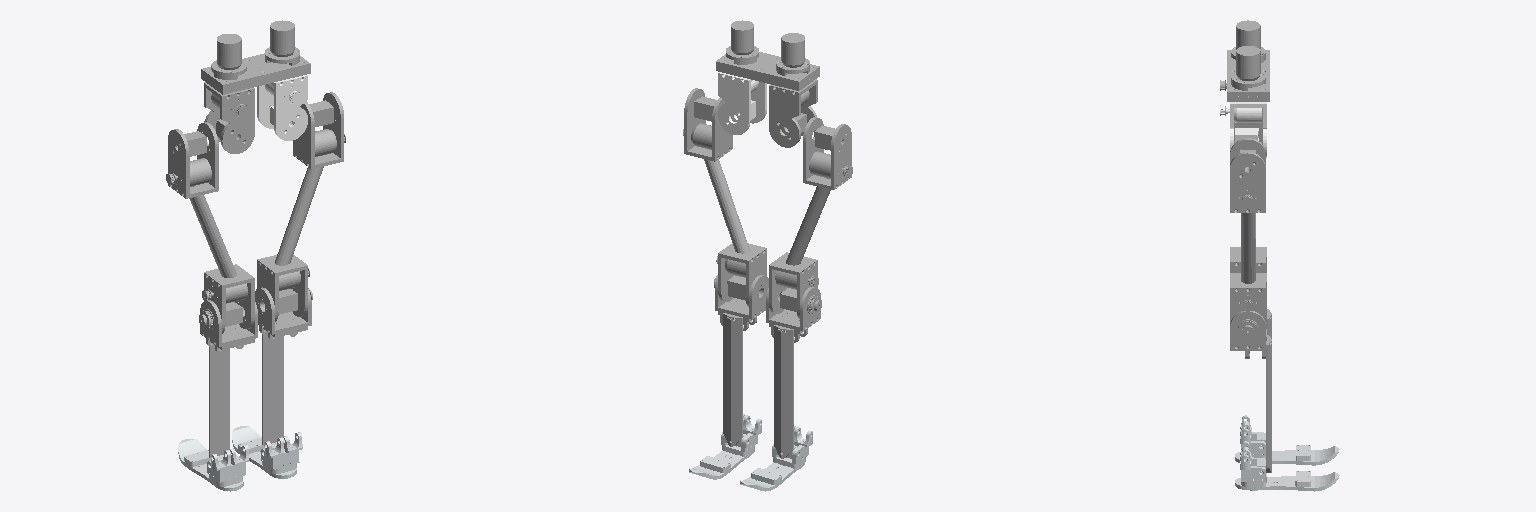
The robot description file, URDF, robot "huron_description_2":
<?xml version="1.0" encoding="utf-8"?>
<!-- This URDF was automatically created by SolidWorks to URDF Exporter! Originally created by [author] ([email redacted]) 
     Commit Version: 1.6.0-4-g7f85cfe  Build Version: 1.6.7995.38578
     For more information, please see http://wiki.ros.org/sw_urdf_exporter -->
<robot
  name="huron_description_2">
  
  <gazebo>
    <self_collide>1</self_collide>
  </gazebo>

  <link name="base_footprint" />
  <link
    name="base_link">
    <inertial>
      <origin
        xyz="4.73188960237181E-09 5.43380156814433E-07 0.0269746723866842"
        rpy="0 0 0" />
      <mass
        value="3.40723570208261" />
      <inertia
        ixx="0.00319004496846458"
        ixy="7.14900268581691E-11"
        ixz="6.0312906921393E-11"
        iyy="0.0105312204112697"
        iyz="6.92595211690858E-09"
        izz="0.0123154567422159" />
    </inertial>
    <visual>
      <origin
        xyz="0 0 0"
        rpy="0 0 0" />
      <geometry>
        <mesh
          filename="package://huron_description_2/meshes/base_link.STL" />
      </geometry>
      <material
        name="">
        <color
          rgba="0.752941176470588 0.752941176470588 0.752941176470588 1" />
      </material>
    </visual>
    <collision>
      <origin
        xyz="0 0 0"
        rpy="0 0 0" />
      <geometry>
        <mesh
          filename="package://huron_description_2/meshes/base_link.STL" />
      </geometry>
    </collision>
  </link>
  <joint name="base_joint" type="fixed">
    <parent link="base_footprint"/>
    <child link="base_link"/>
    <!-- <origin xyz="0.0 0.0 0.0" rpy="0 0 0"/> -->
    <origin xyz="0.0 0.0 1.3" rpy="0 0 0"/>
  </joint>
  <link
    name="left_upper_thigh">
    <inertial>
      <origin
        xyz="0.00063027145118244 0.000538669833131833 0.0816280399810376"
        rpy="0 0 0" />
      <mass
        value="1.6968456216795" />
      <inertia
        ixx="0.00227022630391094"
        ixy="-2.54431260104897E-06"
        ixz="-6.64622684424124E-06"
        iyy="0.00267462162343889"
        iyz="-4.69650413333908E-08"
        izz="0.00123800916526073" />
    </inertial>
    <visual>
      <origin
        xyz="0 0 0"
        rpy="0 0 0" />
      <geometry>
        <mesh
          filename="package://huron_description_2/meshes/left_upper_thigh.STL" />
      </geometry>
      <material
        name="">
        <color
          rgba="0.752941176470588 0.752941176470588 0.752941176470588 1" />
      </material>
    </visual>
    <collision>
      <origin
        xyz="0 0 0"
        rpy="0 0 0" />
      <geometry>
        <mesh
          filename="package://huron_description_2/meshes/left_upper_thigh.STL" />
      </geometry>
    </collision>
  </link>
  <joint
    name="hip_2_left_upper_thigh"
    type="revolute">
    <origin
      xyz="-0.0775 0 0"
      rpy="3.1416 0 0" />
    <parent
      link="base_link" />
    <child
      link="left_upper_thigh" />
    <axis
      xyz="0 0 1" />
    <limit
      lower="-3.14159"
      upper="3.14159"
      effort="0"
      velocity="0" />
  </joint>
  <link
    name="left_middle_thigh">
    <inertial>
      <origin
        xyz="-0.0719622084593496 -0.00611530026086354 -6.83234131536592E-05"
        rpy="0 0 0" />
      <mass
        value="1.18837728003772" />
      <inertia
        ixx="0.000982220615924269"
        ixy="-9.86513152329328E-08"
        ixz="-3.73487671878971E-07"
        iyy="0.000970452993289274"
        iyz="9.79041445139278E-08"
        izz="0.00092365496384701" />
    </inertial>
    <visual>
      <origin
        xyz="0 0 0"
        rpy="0 0 0" />
      <geometry>
        <mesh
          filename="package://huron_description_2/meshes/left_middle_thigh.STL" />
      </geometry>
      <material
        name="">
        <color
          rgba="0.752941176470588 0.752941176470588 0.752941176470588 1" />
      </material>
    </visual>
    <collision>
      <origin
        xyz="0 0 0"
        rpy="0 0 0" />
      <geometry>
        <mesh
          filename="package://huron_description_2/meshes/left_middle_thigh.STL" />
      </geometry>
    </collision>
  </link>
  <joint
    name="left_thigh_roll"
    type="revolute">
    <origin
      xyz="0 0 0.1451242"
      rpy="1.5707963267949 0 0" />
    <parent
      link="left_upper_thigh" />
    <child
      link="left_middle_thigh" />
    <axis
      xyz="-0.00629189312904533 0 -0.999980205844522" />
    <limit
      lower="-3.14159"
      upper="3.14159"
      effort="0"
      velocity="0" />
  </joint>
  <link
    name="left_lower_thigh">
    <inertial>
      <origin
        xyz="-0.266032619495271 -0.000288212950915689 -0.0531507715646498"
        rpy="0 0 0" />
      <mass
        value="4.25435975944067" />
      <inertia
        ixx="0.00345274124785122"
        ixy="1.24869769517437E-05"
        ixz="0.00197963999643362"
        iyy="0.0100324127414557"
        iyz="3.64016409863169E-07"
        izz="0.010090241102447" />
    </inertial>
    <visual>
      <origin
        xyz="0 0 0"
        rpy="0 0 0" />
      <geometry>
        <mesh
          filename="package://huron_description_2/meshes/left_lower_thigh.STL" />
      </geometry>
      <material
        name="">
        <color
          rgba="0.752941176470588 0.752941176470588 0.752941176470588 1" />
      </material>
    </visual>
    <collision>
      <origin
        xyz="0 0 0"
        rpy="0 0 0" />
      <geometry>
        <mesh
          filename="package://huron_description_2/meshes/left_lower_thigh.STL" />
      </geometry>
      <!-- <origin -->
      <!--   xyz="-0.25 0 -0.07" -->
      <!--   rpy="0 1.97 0" /> -->
      <!-- <geometry> -->
      <!--   <cylinder length="0.5" radius="0.05" /> -->
      <!-- </geometry> -->
    </collision>
  </link>
  <joint
    name="left_thigh_pitch"
    type="revolute">
    <origin
      xyz="0 0 0"
      rpy="-1.5707963267949 0 -1.57079632679489" />
    <parent
      link="left_middle_thigh" />
    <child
      link="left_lower_thigh" />
    <axis
      xyz="0 0.0062918931290415 0.999980205844522" />
    <limit
      lower="-3.14159"
      upper="3.14159"
      effort="0"
      velocity="0" />
  </joint>
  <link
    name="left_shin">
    <inertial>
      <origin
        xyz="-0.114650881627948 -0.0200601309451988 0.000818843611288478"
        rpy="0 0 0" />
      <mass
        value="1.60581202983578" />
      <inertia
        ixx="0.00116466025324857"
        ixy="-5.06243347933369E-06"
        ixz="-2.95036730912847E-10"
        iyy="0.00754378536758175"
        iyz="-2.60872069219708E-11"
        izz="0.00773513292013865" />
    </inertial>
    <visual>
      <origin
        xyz="0 0 0"
        rpy="0 0 0" />
      <geometry>
        <mesh
          filename="package://huron_description_2/meshes/left_shin.STL" />
      </geometry>
      <material
        name="">
        <color
          rgba="0.752941176470588 0.752941176470588 0.752941176470588 1" />
      </material>
    </visual>
    <collision>
      <origin
        xyz="0 0 0"
        rpy="0 0 0" />
      <!-- <origin -->
      <!--   xyz="-0.2125 -0.0115 0" -->
      <!--   rpy="0 1.57 0" /> -->
      <geometry>
        <mesh
          filename="package://huron_description_2/meshes/left_shin.STL" />
        <!-- <cylinder length="0.43" radius="0.05" /> -->
      </geometry>
    </collision>
  </link>
  <joint
    name="left_knee"
    type="revolute">
    <origin
      xyz="-0.511278478308803 4.98941573321976E-05 -1.69789967927603E-05"
      rpy="-0.00629193464362004 0 0" />
    <parent
      link="left_lower_thigh" />
    <child
      link="left_shin" />
    <axis
      xyz="0 0 1" />
    <limit
      lower="-3.14159"
      upper="3.14159"
      effort="0"
      velocity="0" />
  </joint>
  <link
    name="left_ankle_roll_link">
    <inertial>
      <origin
        xyz="-1.23603651863702E-05 5.57268410583678E-07 0.000277899308168128"
        rpy="0 0 0" />
      <mass
        value="0.0816413455622017" />
      <inertia
        ixx="2.09931500829249E-05"
        ixy="-5.12265171426361E-07"
        ixz="-2.80748290382414E-10"
        iyy="1.03508115313432E-05"
        iyz="4.07293290858292E-12"
        izz="2.23948011263121E-05" />
    </inertial>
    <visual>
      <origin
        xyz="0 0 0"
        rpy="0 0 0" />
      <geometry>
        <mesh
          filename="package://huron_description_2/meshes/left_ankle_roll_link.STL" />
      </geometry>
      <material
        name="">
        <color
          rgba="0.898039215686275 0.917647058823529 0.929411764705882 1" />
      </material>
    </visual>
    <collision>
      <origin
        xyz="0 0 0"
        rpy="0 0 0" />
      <geometry>
        <mesh
          filename="package://huron_description_2/meshes/left_ankle_roll_link.STL" />
      </geometry>
    </collision>
  </link>
  <joint
    name="left_ankle_roll"
    type="revolute">
    <origin
      xyz="-0.425000000000015 -0.0344999999997562 0"
      rpy="1.57079632679491 0 0" />
    <parent
      link="left_shin" />
    <child
      link="left_ankle_roll_link" />
    <axis
      xyz="0 0 1" />
    <limit
      lower="-3.14159"
      upper="3.14159"
      effort="0"
      velocity="0" />
  </joint>
  <link
    name="left_foot">
    <inertial>
      <origin
        xyz="-0.027041 -0.034311 0.00083257"
        rpy="0 0 0" />
      <mass
        value="2.6907" />
      <inertia
        ixx="0.0080929"
        ixy="0.00024558"
        ixz="-5.8611E-05"
        iyy="0.0012877"
        iyz="0.0001125"
        izz="0.0070808" />
    </inertial>
    <visual>
      <origin
        xyz="0 0 0"
        rpy="0 0 0" />
      <geometry>
        <mesh
          filename="package://huron_description_2/meshes/left_foot.STL" />
      </geometry>
      <material
        name="">
        <color
          rgba="0.89804 0.91765 0.92941 1" />
      </material>
    </visual>
    <collision>
      <origin
        xyz="0 0 0"
        rpy="0 0 0" />
      <geometry>
        <mesh
          filename="package://huron_description_2/meshes/left_foot.STL" />
      </geometry>
    </collision>
  </link>
  <joint
    name="left_ankle_pitch"
    type="revolute">
    <origin
      xyz="0 0 0"
      rpy="-1.5707963267949 0 0" />
    <parent
      link="left_ankle_roll_link" />
    <child
      link="left_foot" />
    <axis
      xyz="-0.0479684947160885 0 -0.998848849183235" />
    <limit
      lower="-3.14159"
      upper="3.14159"
      effort="0"
      velocity="0" />
  </joint>
  <link
    name="right_upper_thigh">
    <inertial>
      <origin
        xyz="0 0 0"
        rpy="0 0 0" />
      <mass
        value="1.6968" />
      <inertia
        ixx="0.00227022630391094"
        ixy="-2.54431260104897E-06"
        ixz="-6.64622684424124E-06"
        iyy="0.00267462162343889"
        iyz="-4.69650413333908E-08"
        izz="0.00123800916526073" />
    </inertial>
    <visual>
      <origin
        xyz="0 0 0"
        rpy="0 0 0" />
      <geometry>
        <mesh
          filename="package://huron_description_2/meshes/right_upper_thigh.STL" />
      </geometry>
      <material
        name="">
        <color
          rgba="1 1 1 1" />
      </material>
    </visual>
    <collision>
      <origin
        xyz="0 0 0"
        rpy="0 0 0" />
      <geometry>
        <mesh
          filename="package://huron_description_2/meshes/right_upper_thigh.STL" />
      </geometry>
    </collision>
  </link>
  <joint
    name="hip_2_right_upper_thigh"
    type="revolute">
    <origin
      xyz="0.0775000000000027 0 0"
      rpy="-3.14159265358979 0 0" />
    <parent
      link="base_link" />
    <child
      link="right_upper_thigh" />
    <axis
      xyz="0 0 1" />
    <limit
      lower="-3.14159"
      upper="3.14159"
      effort="0"
      velocity="0" />
  </joint>
  <link
    name="right_middle_thigh">
    <inertial>
      <origin
        xyz="0.0719500497192963 -0.00611520018078508 -0.00132607895244657"
        rpy="0 0 0" />
      <mass
        value="1.18837729131939" />
      <inertia
        ixx="0.000982215551324506"
        ixy="9.78567635679184E-08"
        ixz="-6.60736762566721E-07"
        iyy="0.000970452982433009"
        iyz="-9.85088275572797E-08"
        izz="0.000923660039693469" />
    </inertial>
    <visual>
      <origin
        xyz="0 0 0"
        rpy="0 0 0" />
      <geometry>
        <mesh
          filename="package://huron_description_2/meshes/right_middle_thigh.STL" />
      </geometry>
      <material
        name="">
        <color
          rgba="0.752941176470588 0.752941176470588 0.752941176470588 1" />
      </material>
    </visual>
    <collision>
      <origin
        xyz="0 0 0"
        rpy="0 0 0" />
      <geometry>
        <mesh
          filename="package://huron_description_2/meshes/right_middle_thigh.STL" />
      </geometry>
    </collision>
  </link>
  <joint
    name="right_thigh_roll"
    type="revolute">
    <origin
      xyz="0 0 0.1451242"
      rpy="1.5707963267949 0 0" />
    <parent
      link="right_upper_thigh" />
    <child
      link="right_middle_thigh" />
    <axis
      xyz="-0.0111238911817118 0 -0.999938127608392" />
    <limit
      lower="-3.14159"
      upper="3.14159"
      effort="0"
      velocity="0" />
  </joint>
  <link
    name="right_lower_thigh">
    <inertial>
      <origin
        xyz="-0.267528305398288 4.99568352568813E-05 0.0531316633422754"
        rpy="0 0 0" />
      <mass
        value="4.25435978482121" />
      <inertia
        ixx="0.00345009124368214"
        ixy="2.75609194373135E-09"
        ixz="-0.00197967910797871"
        iyy="0.0100350604541718"
        iyz="-2.52633173109223E-10"
        izz="0.0100902433938639" />
    </inertial>
    <visual>
      <origin
        xyz="0 0 0"
        rpy="0 0 0" />
      <geometry>
        <mesh
          filename="package://huron_description_2/meshes/right_lower_thigh.STL" />
      </geometry>
      <material
        name="">
        <color
          rgba="0.752941176470588 0.752941176470588 0.752941176470588 1" />
      </material>
    </visual>
    <collision>
      <origin
        xyz="0 0 0"
        rpy="0 0 0" />
      <geometry>
        <mesh
          filename="package://huron_description_2/meshes/right_lower_thigh.STL" />
        <!-- <cylinder length="0.5" radius="0.05" /> -->
      </geometry>
    </collision>
  </link>
  <joint
    name="right_thigh_pitch"
    type="revolute">
    <origin
      xyz="0 0 0"
      rpy="-1.58192044740287 0 -1.57079632679489" />
    <parent
      link="right_middle_thigh" />
    <child
      link="right_lower_thigh" />
    <axis
      xyz="0 0 -1" />
    <limit
      lower="-3.14159"
      upper="3.14159"
      effort="0"
      velocity="0" />
  </joint>
  <link
    name="right_shin">
    <inertial>
      <origin
        xyz="-0.114650881599689 -0.0200601310650421 -0.00081885215005037"
        rpy="0 0 0" />
      <mass
        value="1.60581203587773" />
      <inertia
        ixx="0.00116466025370797"
        ixy="-5.06243027863451E-06"
        ixz="-6.44736978767189E-10"
        iyy="0.00754378548249356"
        iyz="-2.59218140455744E-11"
        izz="0.0077351330344375" />
    </inertial>
    <visual>
      <origin
        xyz="0 0 0"
        rpy="0 0 0" />
      <geometry>
        <mesh
          filename="package://huron_description_2/meshes/right_shin.STL" />
      </geometry>
      <material
        name="">
        <color
          rgba="0.752941176470588 0.752941176470588 0.752941176470588 1" />
      </material>
    </visual>
    <collision>
      <origin
        xyz="0 0 0"
        rpy="0 0 0" />
      <!-- <origin -->
      <!--   xyz="-0.2125 -0.0115 0" -->
      <!--   rpy="0 1.57 0" /> -->
      <geometry>
        <mesh
          filename="package://huron_description_2/meshes/right_shin.STL" />
          <!-- <cylinder length="0.43" radius="0.05" /> -->
      </geometry>
    </collision>
  </link>
  <joint
    name="right_knee"
    type="revolute">
    <origin
      xyz="-0.512778478308813 4.99999999867273E-05 1.66647320091612E-05"
      rpy="0 0 0" />
    <parent
      link="right_lower_thigh" />
    <child
      link="right_shin" />
    <axis
      xyz="0 0 -1" />
    <limit
      lower="-3.14159"
      upper="3.14159"
      effort="0"
      velocity="0" />
  </joint>
  <link
    name="right_ankle_roll_link">
    <inertial>
      <origin
        xyz="-1.23603651862592E-05 5.57268410639189E-07 0.000277899308168073"
        rpy="0 0 0" />
      <mass
        value="0.0816413455622017" />
      <inertia
        ixx="2.09931500829249E-05"
        ixy="-5.12265171426306E-07"
        ixz="-2.80748290390765E-10"
        iyy="1.03508115313432E-05"
        iyz="4.07293289958981E-12"
        izz="2.23948011263121E-05" />
    </inertial>
    <visual>
      <origin
        xyz="0 0 0"
        rpy="0 0 0" />
      <geometry>
        <mesh
          filename="package://huron_description_2/meshes/right_ankle_roll_link.STL" />
      </geometry>
      <material
        name="">
        <color
          rgba="0.898039215686275 0.917647058823529 0.929411764705882 1" />
      </material>
    </visual>
    <collision>
      <origin
        xyz="0 0 0"
        rpy="0 0 0" />
      <geometry>
        <mesh
          filename="package://huron_description_2/meshes/right_ankle_roll_link.STL" />
      </geometry>
    </collision>
  </link>
  <joint
    name="right_ankle_roll"
    type="revolute">
    <origin
      xyz="-0.425000000000006 -0.0344999999999848 0"
      rpy="1.5707963267949 0 0" />
    <parent
      link="right_shin" />
    <child
      link="right_ankle_roll_link" />
    <axis
      xyz="0 0 1" />
    <limit
      lower="-3.14159"
      upper="3.14159"
      effort="0"
      velocity="0" />
  </joint>
  <link
    name="right_foot">
    <inertial>
      <origin
        xyz="-0.027041 -0.034311 0.00083258"
        rpy="0 0 0" />
      <mass
        value="2.6907" />
      <inertia
        ixx="0.0080929"
        ixy="0.00024558"
        ixz="-5.8611E-05"
        iyy="0.0012877"
        iyz="0.0001125"
        izz="0.0070808" />
    </inertial>
    <visual>
      <origin
        xyz="0 0 0"
        rpy="0 0 0" />
      <geometry>
        <mesh
          filename="package://huron_description_2/meshes/right_foot.STL" />
      </geometry>
      <material
        name="">
        <color
          rgba="0.89804 0.91765 0.92941 1" />
      </material>
    </visual>
    <collision>
      <origin
        xyz="0 0 0"
        rpy="0 0 0" />
      <geometry>
        <mesh
          filename="package://huron_description_2/meshes/right_foot.STL" />
      </geometry>
    </collision>
  </link>
  <joint
    name="right_ankle_pitch"
    type="revolute">
    <origin
      xyz="0 0 0"
      rpy="-1.5707963267949 0 0" />
    <parent
      link="right_ankle_roll_link" />
    <child
      link="right_foot" />
    <axis
      xyz="-0.04796849471608 0 -0.998848849183235" />
    <limit
      lower="-3.14159"
      upper="3.14159"
      effort="0"
      velocity="0" />
  </joint>
</robot>

--- Facts derived from the render (not from the file) ---
Views: 3 orthographic renders of the robot side by side, from view 1: azimuth 30°, elevation 25°; view 2: azimuth 150°, elevation 25°; view 3: azimuth 270°, elevation 25°.
Model huron_description_2 with 14 links and 13 joints (12 revolute, 1 fixed), rooted at base_footprint, posed every joint at zero.
Visible links, largest first — view 1: left_lower_thigh, right_lower_thigh, base_link, right_shin, left_shin, left_upper_thigh, right_upper_thigh, left_foot, right_foot; view 2: left_lower_thigh, right_lower_thigh, base_link, right_shin, left_shin, right_upper_thigh, left_upper_thigh, right_foot, left_foot; view 3: right_lower_thigh, base_link, right_foot, right_shin, left_foot, right_upper_thigh, left_lower_thigh.
Link boxes in pixels (box(x1,y1,x2,y2)): left_lower_thigh: box(166, 122, 254, 333); right_lower_thigh: box(257, 92, 345, 321); base_link: box(201, 20, 310, 94); right_shin: box(255, 287, 311, 444); left_shin: box(200, 300, 257, 457); left_upper_thigh: box(204, 82, 254, 153); right_upper_thigh: box(257, 75, 307, 140); left_foot: box(178, 439, 248, 491); right_foot: box(232, 426, 302, 478); left_lower_thigh: box(769, 117, 852, 318); right_lower_thigh: box(683, 88, 766, 306); base_link: box(716, 20, 819, 90); right_shin: box(715, 275, 768, 446); left_shin: box(766, 286, 820, 458); right_upper_thigh: box(718, 72, 766, 134); left_upper_thigh: box(769, 79, 817, 147); right_foot: box(689, 414, 761, 479); left_foot: box(740, 426, 812, 491); right_lower_thigh: box(1230, 138, 1266, 338); base_link: box(1227, 20, 1269, 101); right_foot: box(1235, 441, 1339, 491); right_shin: box(1230, 311, 1271, 472); left_foot: box(1235, 415, 1339, 465); right_upper_thigh: box(1220, 102, 1266, 157); left_lower_thigh: box(1230, 108, 1266, 272).
Bounding box of the posed robot: 0.5068 × 0.3088 × 1.25 m (x, y, z).
11 mesh visuals loaded from 13 distinct referenced files (11 binary STL); not drawn: 2 (reference not matched to a file when rendering).